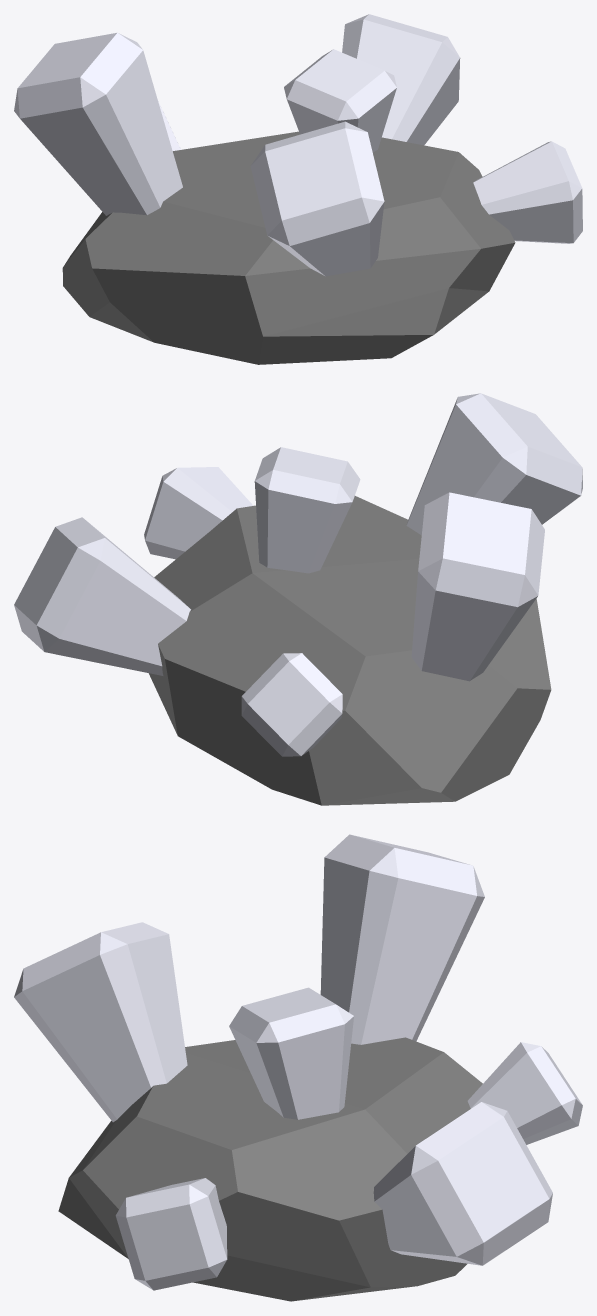
File: MineralNode_15_C.fbx
The picture shows the model from 3 angles, top to bottom: view 1: azimuth 30°, elevation 25°; view 2: azimuth 150°, elevation 25°; view 3: azimuth 270°, elevation 25°; orthographic projection. The views are drawn at different scales.
Visible parts, largest first — view 1: MineralNode_15_C; view 2: MineralNode_15_C; view 3: MineralNode_15_C.
Part boxes in pixels (x1,y1,x2,y2): MineralNode_15_C: (14,14,582,364); MineralNode_15_C: (14,393,582,805); MineralNode_15_C: (14,834,582,1301).
Bounding box in the file's own units: 101 × 55.97 × 94.53.
